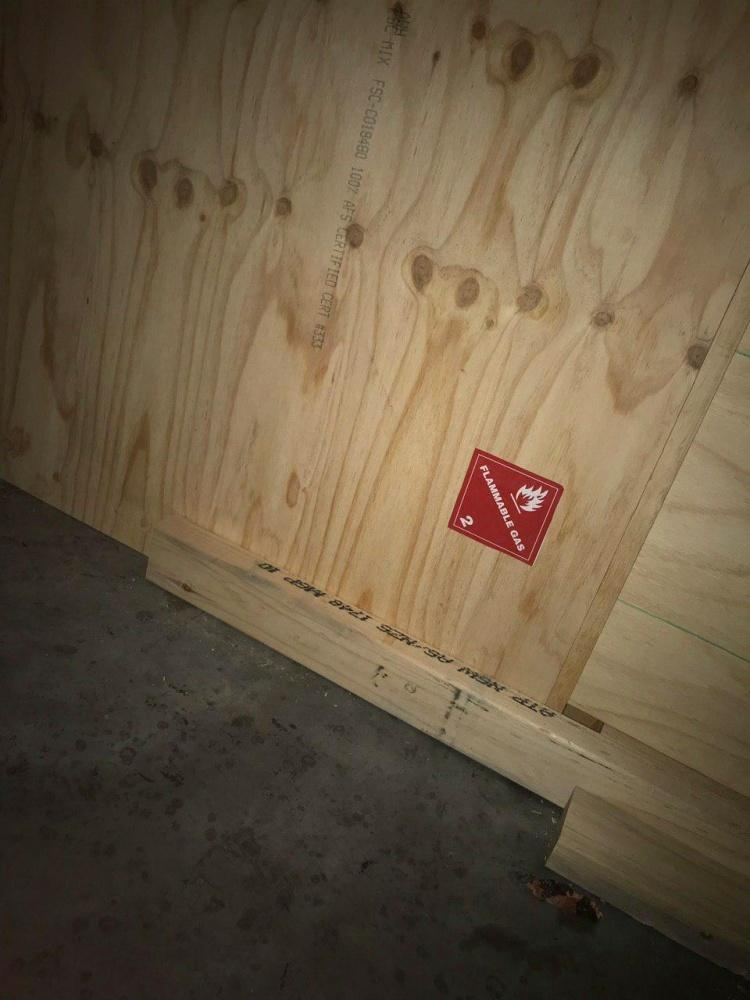flammable: (447, 450, 563, 568)
